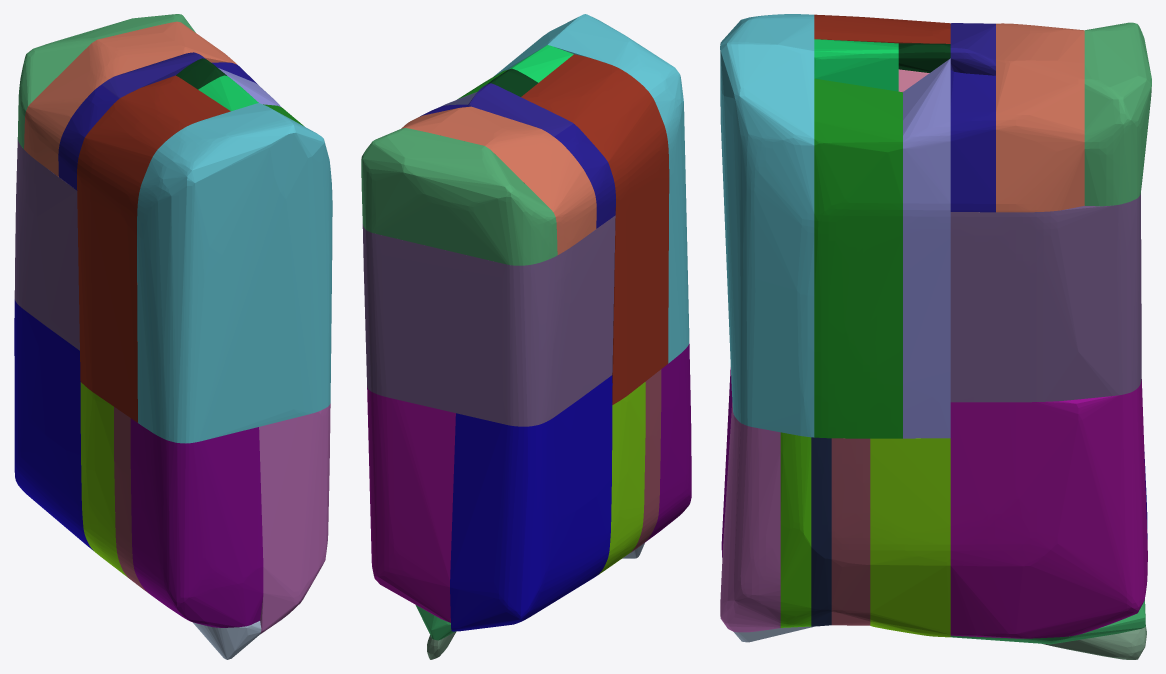
The model's file is coacd_collision.obj.
3 renders of one model, left to right at view 1: azimuth 30°, elevation 25°; view 2: azimuth 150°, elevation 25°; view 3: azimuth 270°, elevation 25°, orthographic. The views are drawn at different scales.
Parts seen in each view (by area): view 1: geometry_2, geometry_11, geometry_15, geometry_7, geometry_5, geometry_1, geometry_9, geometry_4, geometry_3, geometry_13, geometry_20, geometry_18 (+4 smaller); view 2: geometry_1, geometry_5, geometry_15, geometry_3, geometry_14, geometry_2, geometry_9, geometry_4, geometry_11, geometry_13, geometry_20, geometry_18 (+3 smaller); view 3: geometry_14, geometry_2, geometry_1, geometry_8, geometry_12, geometry_9, geometry_4, geometry_7, geometry_3, geometry_13, geometry_20, geometry_17 (+7 smaller).
Boxes of the visible parts, box(x1,y1,x2,y2) form: geometry_2: box(137, 103, 332, 443); geometry_11: box(130, 418, 263, 627); geometry_15: box(77, 75, 230, 422); geometry_7: box(259, 403, 330, 634); geometry_5: box(14, 299, 93, 550); geometry_1: box(14, 139, 79, 350); geometry_9: box(24, 21, 237, 176); geometry_4: box(80, 382, 127, 577); geometry_3: box(17, 14, 195, 148); geometry_13: box(114, 407, 148, 593); geometry_20: box(58, 62, 257, 190); geometry_18: box(101, 52, 205, 98); geometry_1: box(362, 215, 615, 426); geometry_5: box(450, 375, 612, 631); geometry_15: box(521, 54, 669, 404); geometry_3: box(361, 128, 557, 265); geometry_14: box(367, 387, 455, 622); geometry_2: box(493, 14, 689, 363); geometry_9: box(401, 106, 596, 254); geometry_4: box(598, 382, 645, 574); geometry_11: box(643, 343, 691, 543); geometry_13: box(629, 369, 661, 553); geometry_20: box(420, 104, 615, 228); geometry_18: box(466, 83, 573, 136); geometry_14: box(950, 379, 1147, 638); geometry_2: box(720, 14, 814, 437); geometry_1: box(950, 193, 1141, 402); geometry_8: box(814, 78, 902, 438); geometry_12: box(903, 58, 950, 438); geometry_9: box(996, 23, 1084, 212); geometry_4: box(870, 438, 950, 637); geometry_7: box(720, 402, 780, 632); geometry_3: box(1084, 22, 1151, 206); geometry_13: box(831, 438, 870, 625); geometry_20: box(950, 70, 995, 212); geometry_17: box(780, 432, 811, 627).
Bounding box in the file's own units: 71.55 × 182 × 113.
